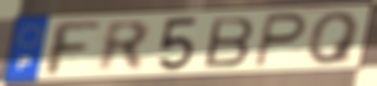5: (153, 15, 203, 72)
B: (202, 15, 257, 70)
F: (45, 21, 104, 79)
P: (251, 11, 309, 69)
Q: (306, 10, 363, 67)
R: (96, 19, 153, 75)
